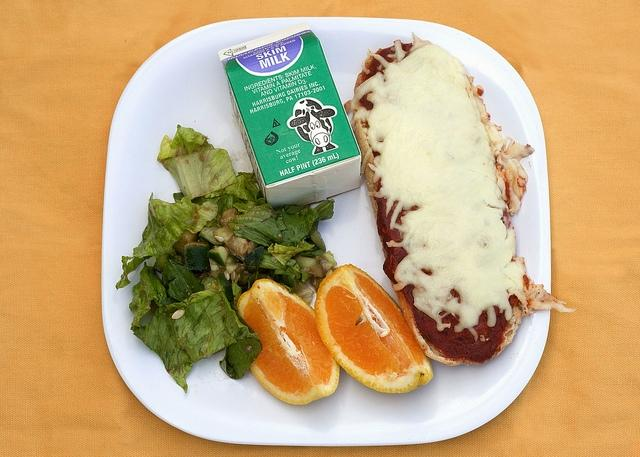lettuce: (133, 278, 263, 392), (115, 192, 218, 291), (158, 124, 238, 199), (228, 203, 288, 247), (129, 262, 167, 331), (162, 259, 204, 305), (281, 207, 317, 247), (302, 251, 338, 278), (258, 249, 288, 271), (310, 222, 326, 252), (233, 199, 259, 213), (310, 275, 326, 295)
orange: (315, 264, 433, 394), (236, 278, 340, 406)
